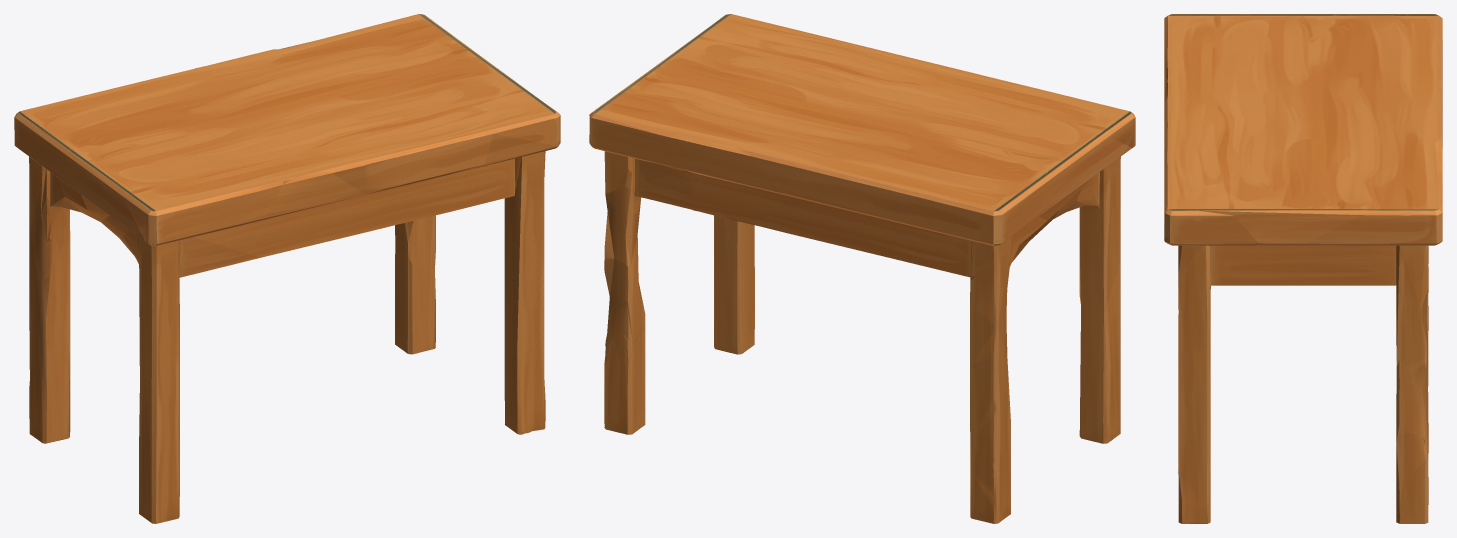
File: raw_desk.glb
3 renders of one model, left to right at view 1: azimuth 30°, elevation 25°; view 2: azimuth 150°, elevation 25°; view 3: azimuth 270°, elevation 25°, orthographic.
Size of the model in its own units: 1.9 by 1.4 by 1.12.
Materials: 1 (1 with a texture image).
